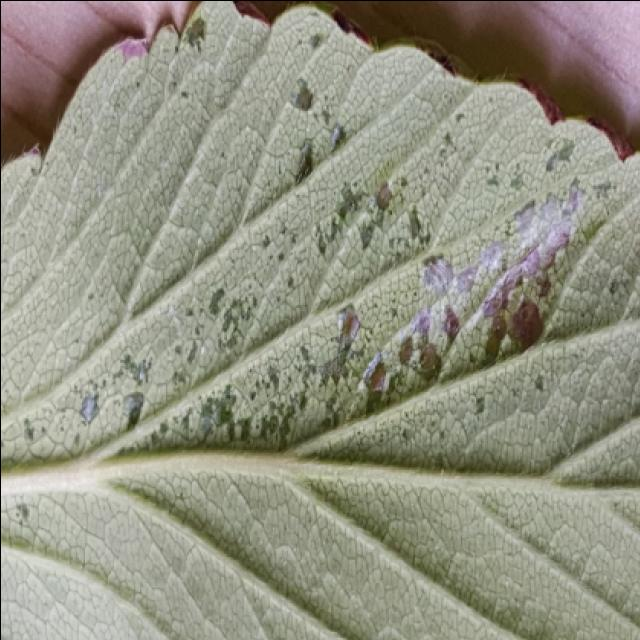Angular Leafspot: (2, 2, 640, 541)
